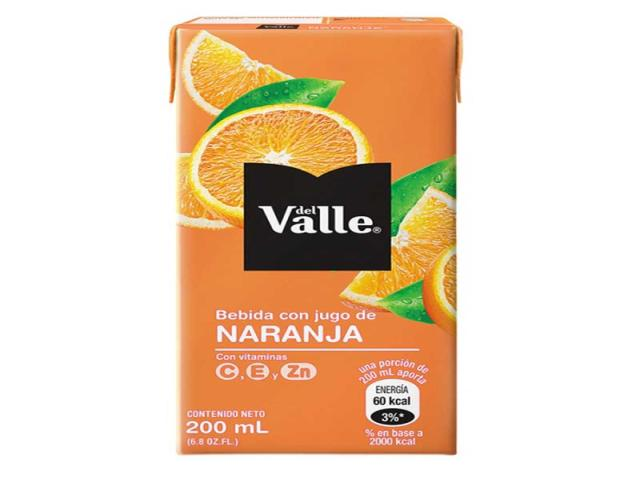drink_box: (159, 8, 472, 464)
